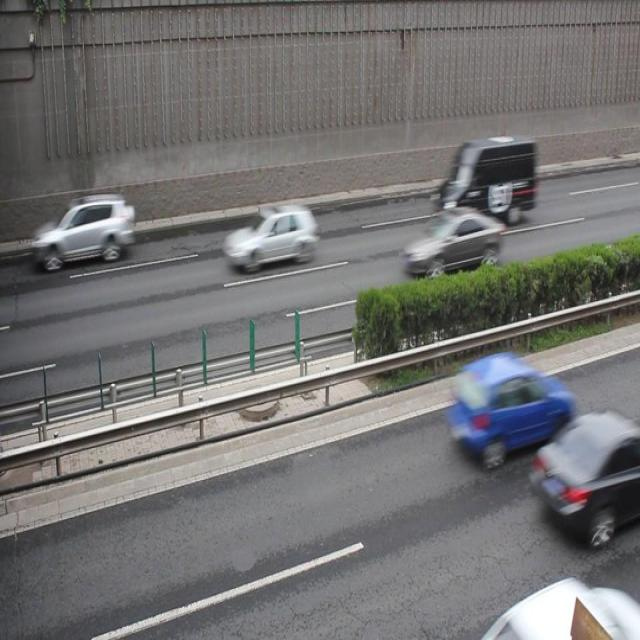car: (444, 352, 573, 469), (528, 409, 640, 541), (477, 573, 628, 640), (38, 193, 134, 270), (403, 208, 502, 276), (224, 204, 315, 268)
truck: (434, 135, 537, 225)
